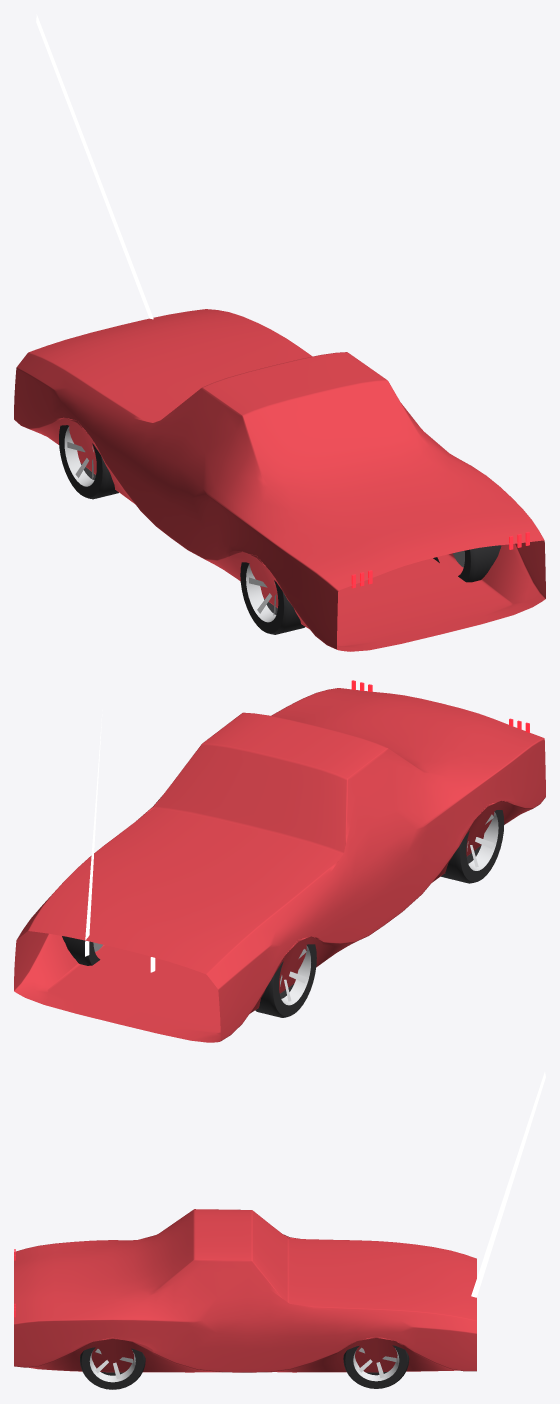
Rendered from vehicle.glb.
3 renders of one model, top to bottom at view 1: azimuth 30°, elevation 25°; view 2: azimuth 150°, elevation 25°; view 3: azimuth 270°, elevation 25°, orthographic. The views are drawn at different scales.
Parts seen in each view (by area): view 1: BODY_FordMustangS197_MainHull, WHEEL_RR_Tire, WHEEL_FR_Tire, LIGHT_Foglamps_MustangS197, WHEEL_RL_Tire, WHEEL_RR_Rim, WHEEL_FR_Rim; view 2: BODY_FordMustangS197_MainHull, WHEEL_RR_Tire, WHEEL_FR_Tire, WHEEL_RR_Rim, WHEEL_FR_Rim, LIGHT_Foglamps_MustangS197, WHEEL_FL_Tire; view 3: BODY_FordMustangS197_MainHull, LIGHT_Foglamps_MustangS197, WHEEL_FL_Tire, WHEEL_RL_Tire, WHEEL_RL_Rim, WHEEL_FL_Rim.
Part boxes in pixels (x1=…): BODY_FordMustangS197_MainHull: x1=14, y1=309, x2=545, y2=651; WHEEL_RR_Tire: x1=240, y1=562, x2=305, y2=634; WHEEL_FR_Tire: x1=59, y1=425, x2=118, y2=499; LIGHT_Foglamps_MustangS197: x1=36, y1=14, x2=153, y2=319; WHEEL_RL_Tire: x1=433, y1=545, x2=501, y2=582; WHEEL_RR_Rim: x1=246, y1=564, x2=276, y2=622; WHEEL_FR_Rim: x1=64, y1=426, x2=94, y2=486; BODY_FordMustangS197_MainHull: x1=14, y1=688, x2=545, y2=1042; WHEEL_RR_Tire: x1=441, y1=810, x2=504, y2=883; WHEEL_FR_Tire: x1=255, y1=944, x2=316, y2=1017; WHEEL_RR_Rim: x1=467, y1=812, x2=498, y2=870; WHEEL_FR_Rim: x1=280, y1=945, x2=310, y2=1005; LIGHT_Foglamps_MustangS197: x1=85, y1=710, x2=155, y2=972; WHEEL_FL_Tire: x1=62, y1=936, x2=100, y2=965; BODY_FordMustangS197_MainHull: x1=14, y1=1209, x2=476, y2=1372; LIGHT_Foglamps_MustangS197: x1=471, y1=1072, x2=545, y2=1297; WHEEL_FL_Tire: x1=343, y1=1345, x2=409, y2=1388; WHEEL_RL_Tire: x1=80, y1=1347, x2=145, y2=1389; WHEEL_RL_Rim: x1=89, y1=1349, x2=135, y2=1382; WHEEL_FL_Rim: x1=353, y1=1347, x2=399, y2=1381.
Size of the model in its own units: 1.97 by 3.08 by 5.49.
